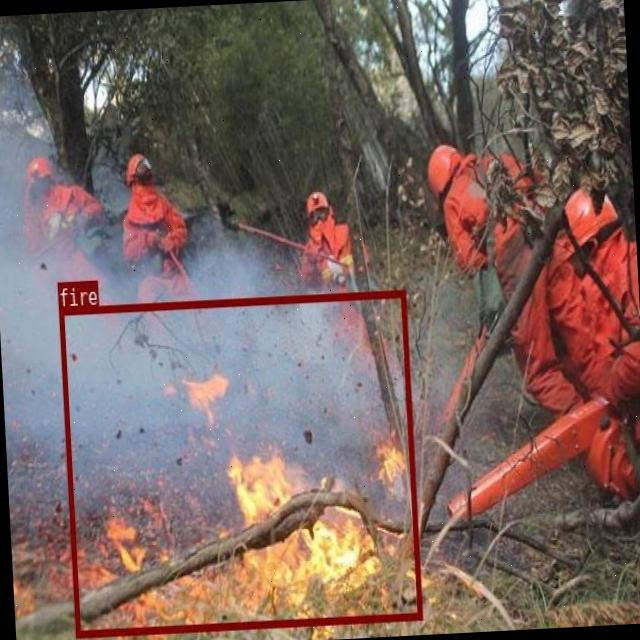fire: (59, 289, 423, 636)
